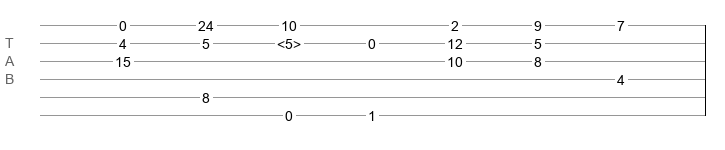0: (119, 18, 127, 28), (285, 108, 293, 118), (368, 36, 376, 46)
1: (368, 108, 376, 118)
10: (281, 18, 297, 28), (447, 54, 463, 64)
12: (447, 36, 463, 46)
15: (115, 54, 131, 64)
2: (451, 18, 459, 28)
24: (198, 18, 214, 28)
4: (119, 36, 127, 46), (617, 72, 625, 82)
5: (202, 36, 210, 46), (534, 36, 542, 46)
7: (617, 18, 625, 28)
8: (202, 90, 210, 100), (534, 54, 542, 64)
9: (534, 18, 542, 28)
harmonic: (277, 36, 301, 46)
